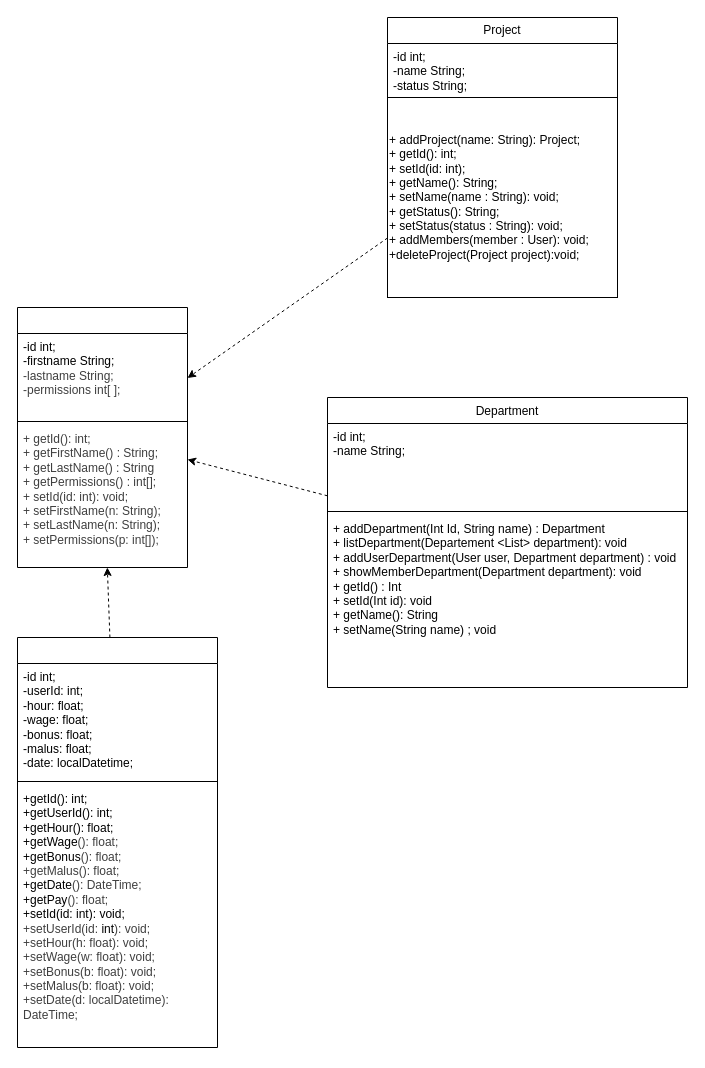
Some shapes in this 705 by 1068 pixel diagram are drawn without their labels. Each missing label, with the box of its shape:
Payslip: (16, 636, 218, 1048)
User: (16, 306, 188, 568)
